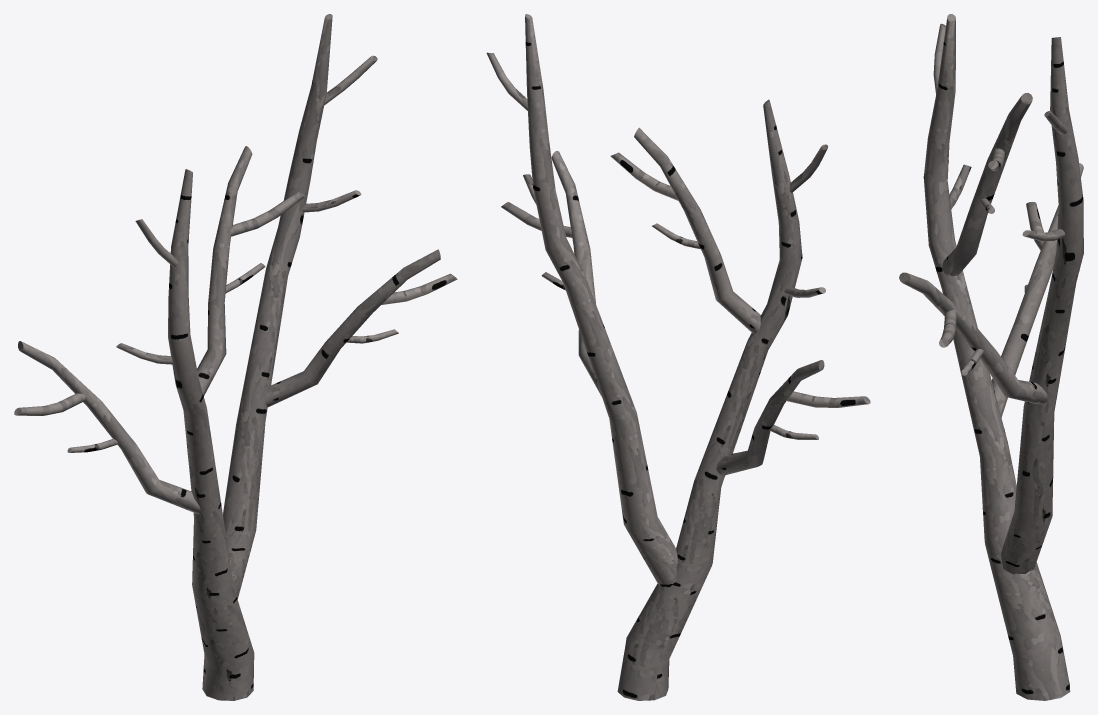
The model's file is deadbirch_8.glb.
The picture shows the model from 3 angles, left to right: view 1: azimuth 30°, elevation 25°; view 2: azimuth 150°, elevation 25°; view 3: azimuth 270°, elevation 25°; orthographic projection. The views are drawn at different scales.
Parts seen in each view (by area): view 1: DeadBirch_8; view 2: DeadBirch_8; view 3: DeadBirch_8.
Boxes of the visible parts, x1,y1,x2,y2 form: DeadBirch_8: (14, 14, 457, 700); DeadBirch_8: (486, 14, 870, 700); DeadBirch_8: (899, 14, 1083, 700).
Bounding box in the file's own units: 6.38 × 9.77 × 2.3.
Materials: 1 (1 with a texture image).
